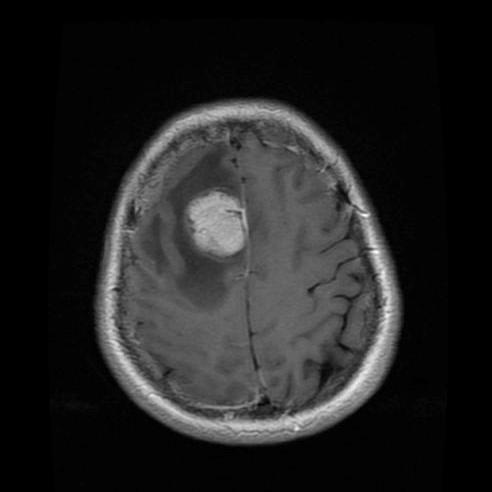Tumour-Meningioma: (171, 157, 271, 288)
